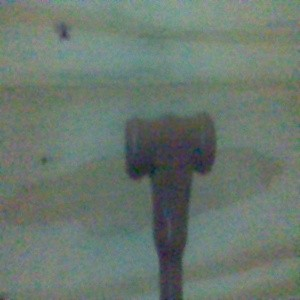palu: (124, 109, 219, 300)
